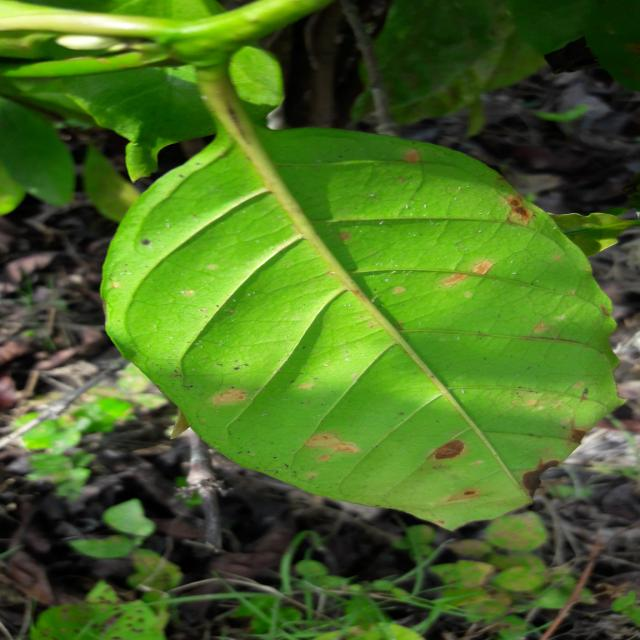Enfermedad-Roya: (99, 115, 625, 534)
